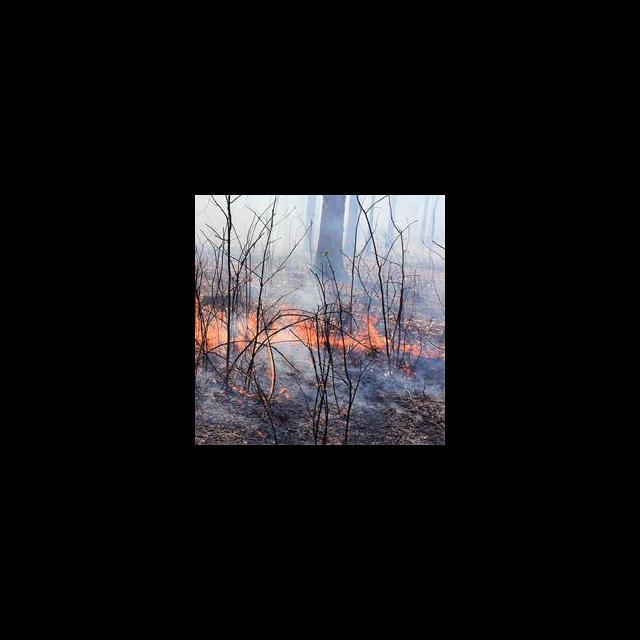Fire: (195, 298, 427, 358)
